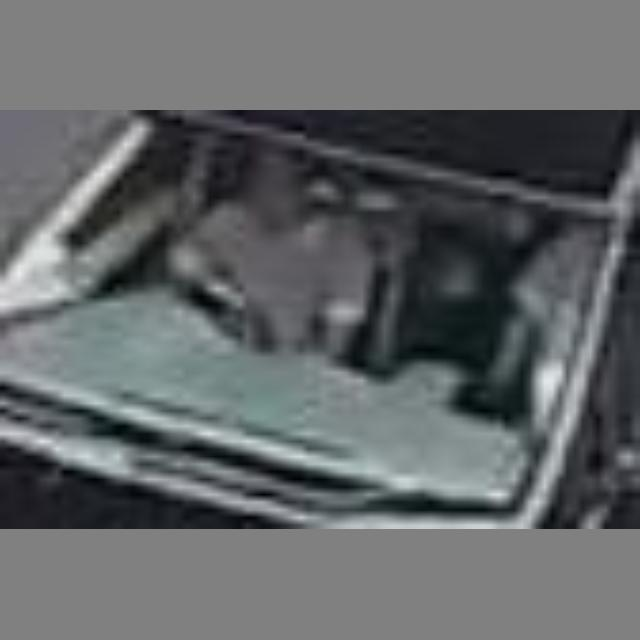tidak-pakai: (175, 171, 373, 400)
